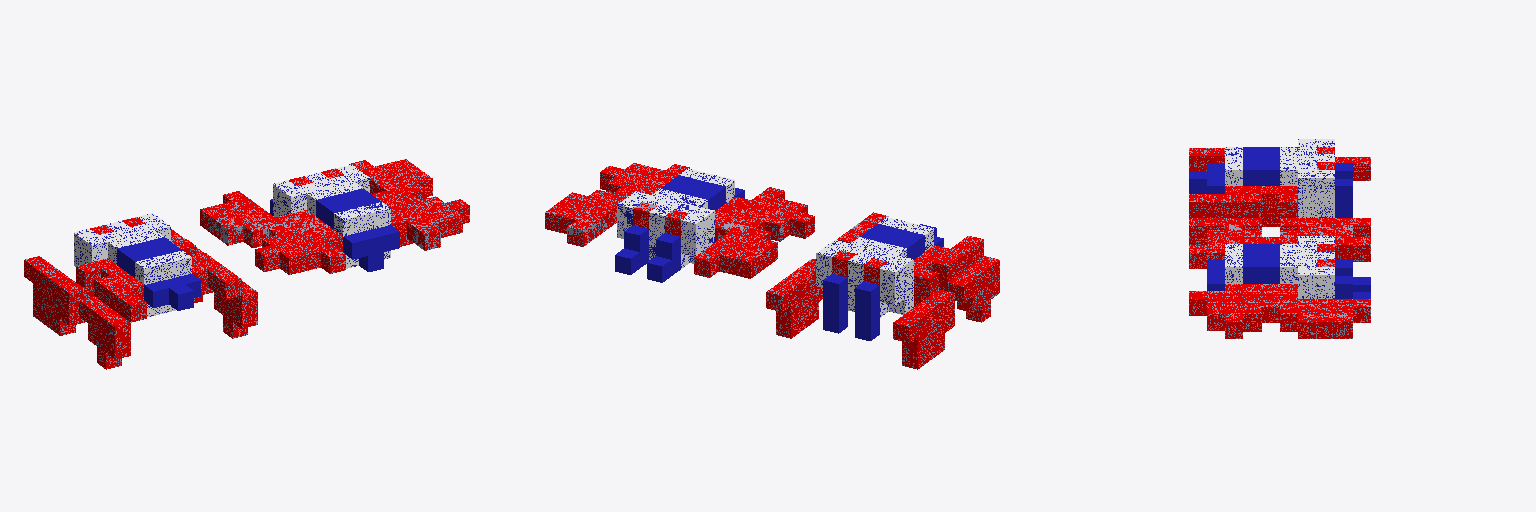
File: a1miujq4of1q.obj
3 views of the same model, side by side, from view 1: azimuth 30°, elevation 25°; view 2: azimuth 150°, elevation 25°; view 3: azimuth 270°, elevation 25° (orthographic).
Parts seen in each view (by area): view 1: ID490, ID1885, ID310, ID319, ID1462, ID1498, ID1615, ID1975, ID391, ID535, ID858, ID1101 (+3 smaller); view 2: ID346, ID481, ID696, ID912, ID1002, ID1408, ID1426, ID2272, ID85, ID391, ID714, ID930 (+3 smaller); view 3: none.
Part boxes in pixels (x1,y1,x2,y2): ID490: (280, 248, 304, 274); ID1885: (169, 284, 193, 310); ID310: (416, 224, 440, 250); ID319: (219, 219, 243, 245); ID1462: (122, 296, 146, 322); ID1498: (106, 316, 130, 342); ID1615: (135, 258, 159, 284); ID1975: (217, 273, 241, 298); ID391: (255, 245, 279, 271); ID535: (321, 247, 345, 273); ID858: (282, 187, 306, 213); ID1101: (334, 210, 358, 236); ID346: (735, 252, 759, 278); ID481: (694, 251, 718, 277); ID696: (624, 225, 648, 251); ID912: (681, 214, 705, 239); ID1002: (647, 256, 671, 282); ID1408: (914, 269, 938, 295); ID1426: (893, 316, 917, 342); ID2272: (855, 281, 879, 307); ID85: (567, 220, 591, 246); ID391: (790, 212, 814, 238); ID714: (656, 233, 680, 259); ID930: (615, 248, 639, 274).
Size of the model in its own units: 0.7814 by 0.1657 by 0.3313.